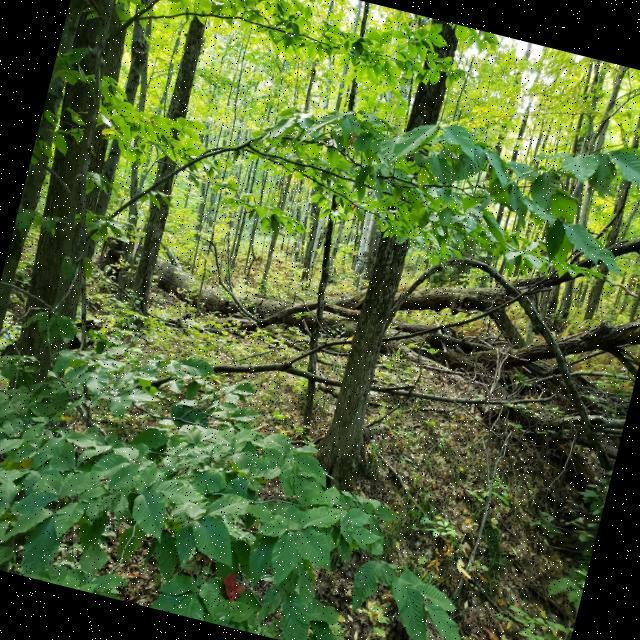fallen_object: (60, 79, 640, 510)
